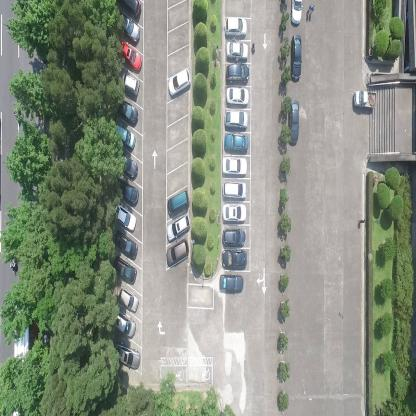car: (112, 228, 138, 260), (118, 40, 142, 74), (113, 339, 140, 369), (116, 14, 141, 44), (166, 212, 190, 243), (112, 202, 136, 232), (112, 255, 136, 285), (168, 67, 191, 97), (116, 150, 139, 180), (115, 98, 139, 126), (112, 310, 136, 338), (166, 238, 188, 268), (167, 186, 189, 216), (287, 98, 300, 146), (117, 179, 139, 206), (118, 287, 140, 314), (290, 34, 302, 82), (221, 250, 248, 271), (353, 88, 377, 111), (114, 124, 136, 149), (222, 156, 248, 177), (119, 72, 140, 98), (225, 38, 249, 60), (224, 16, 249, 37), (222, 179, 247, 200), (226, 62, 249, 84), (226, 86, 249, 108), (222, 225, 246, 246), (117, 0, 143, 19), (224, 110, 249, 129), (219, 274, 244, 293), (222, 203, 247, 221), (224, 134, 248, 151), (290, 0, 303, 26)
